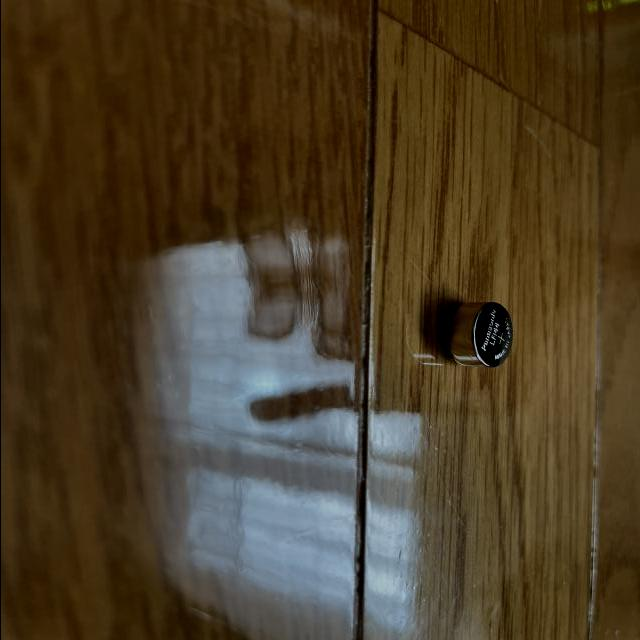COIN: (442, 302, 516, 369)
